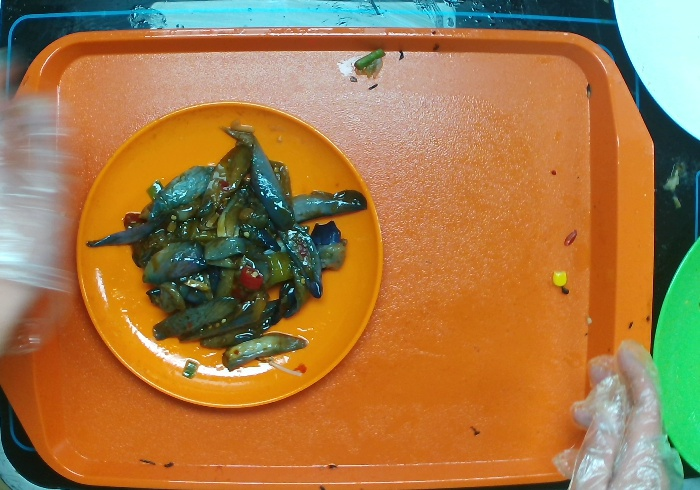HZYJPL-Ju_Huang_Yuan_Pan: (73, 99, 384, 408)
